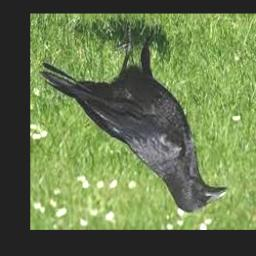Crow: (40, 28, 229, 213)
